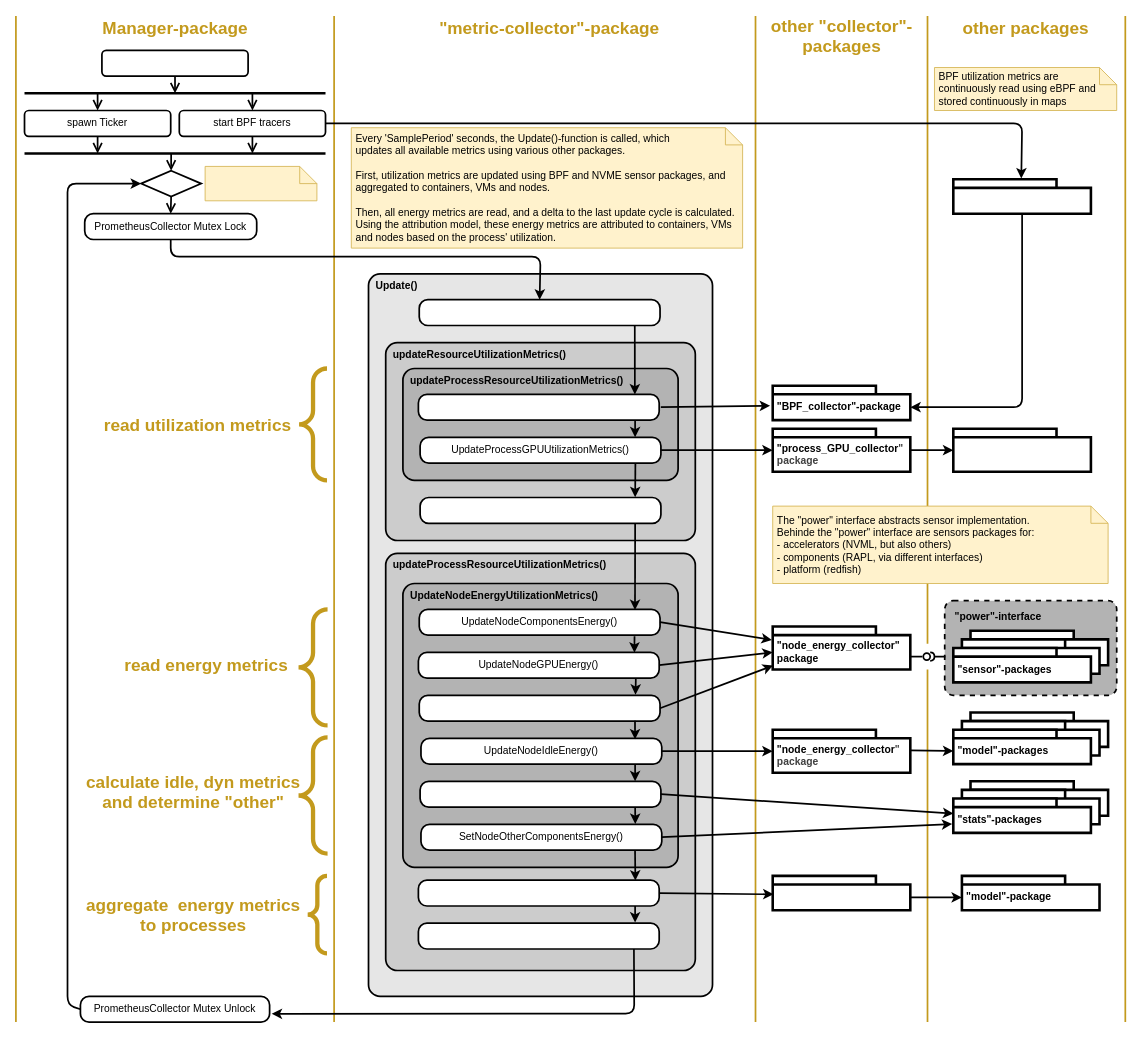
This 1141x1038 diagram has some shape labels left out. Each missing label, with the centre of its shape:
"accelerator_sensor " package: point (1022, 450)
"BPF_sensor "-packages: point (1022, 196)
"process-energy "-package: point (841, 892)
AggregateProcessEnergyUtilizationMetrics(): point (538, 935)
AggregateProcessResourceUtilizationMetrics(): point (540, 510)
resetDetlaValue(): point (539, 312)
Start() parse flags, init config: point (175, 63)
Tick: point (171, 183)
Ticker every 'SamplePeriod': point (260, 183)
Update DynEnergy(): point (540, 794)
UpdatePlatformEnergy(): point (539, 708)
UpdateProcessBPFMetrics(): point (538, 407)
UpdateProcessEnergyUtilizationMetrics(): point (538, 892)
